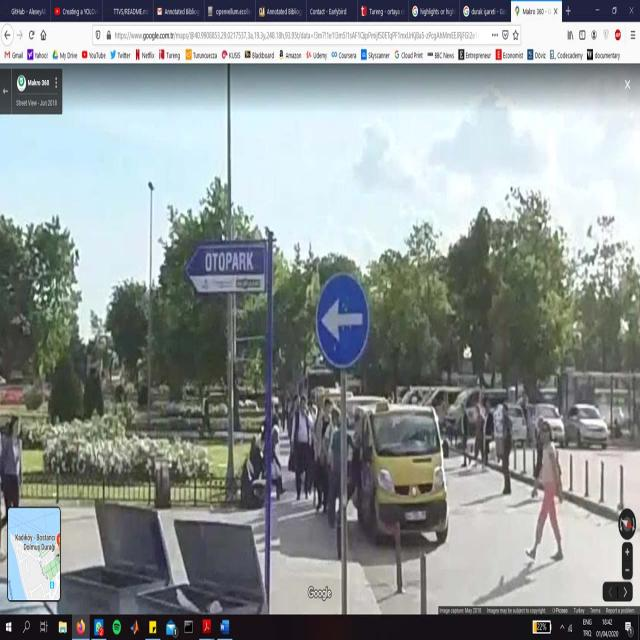sol: (316, 271, 372, 373)
